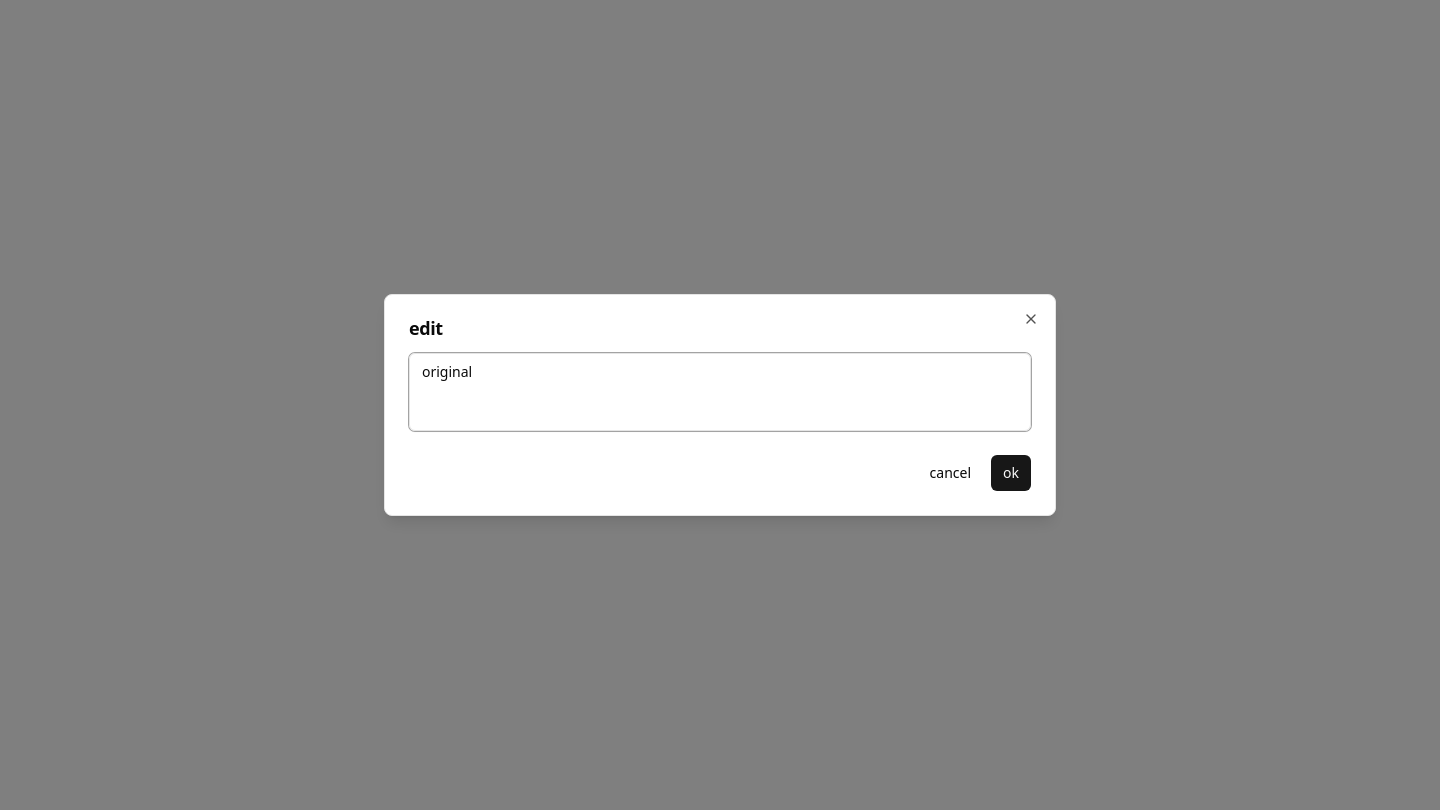
Test case: EditableMessage › cancel reverts to the original value
The image size is (1440, 810).
Replace the text in the text box with "updated": (720, 392) x1=409 y1=353 x2=1031 y2=431
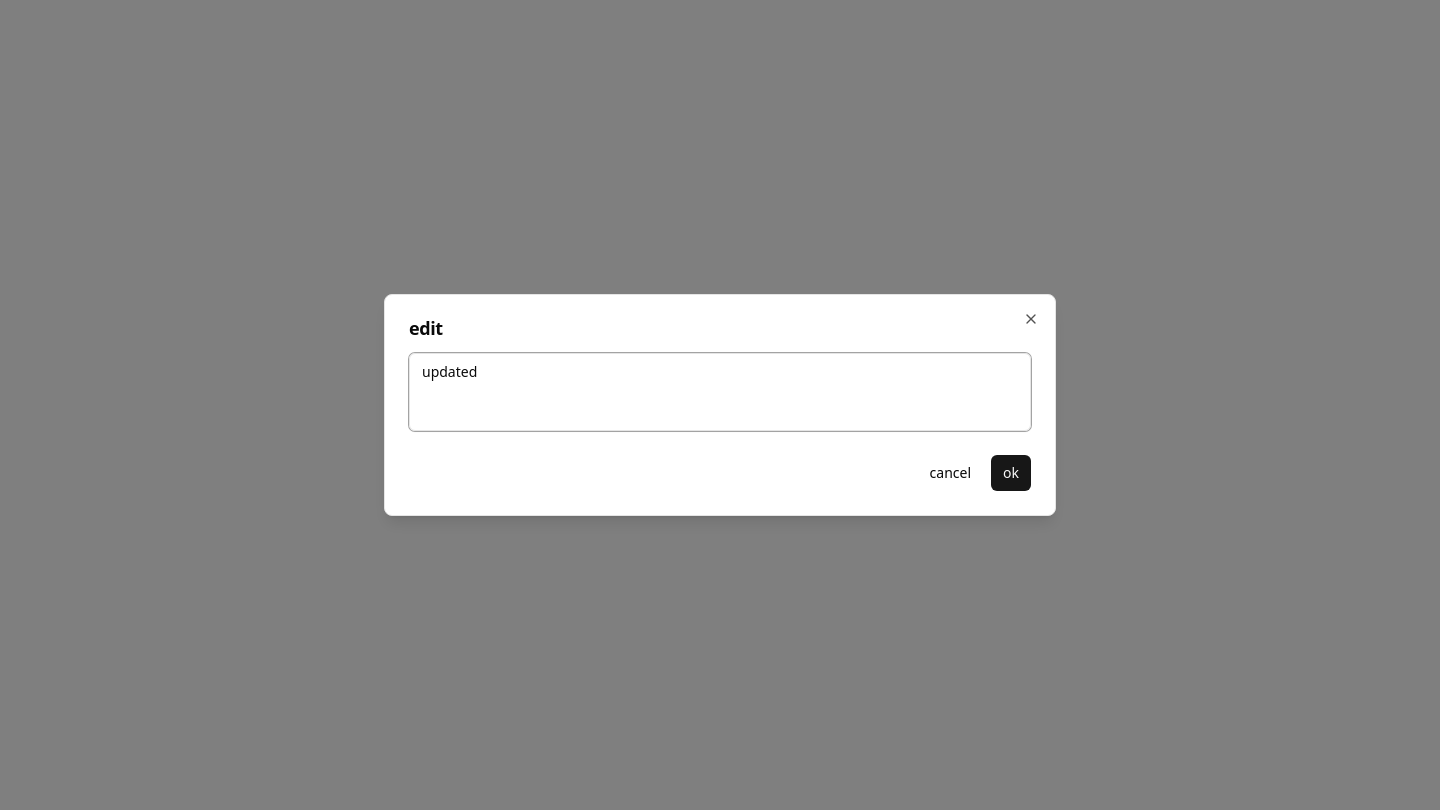
Click the button "cancel": (950, 473) x1=918 y1=455 x2=983 y2=491
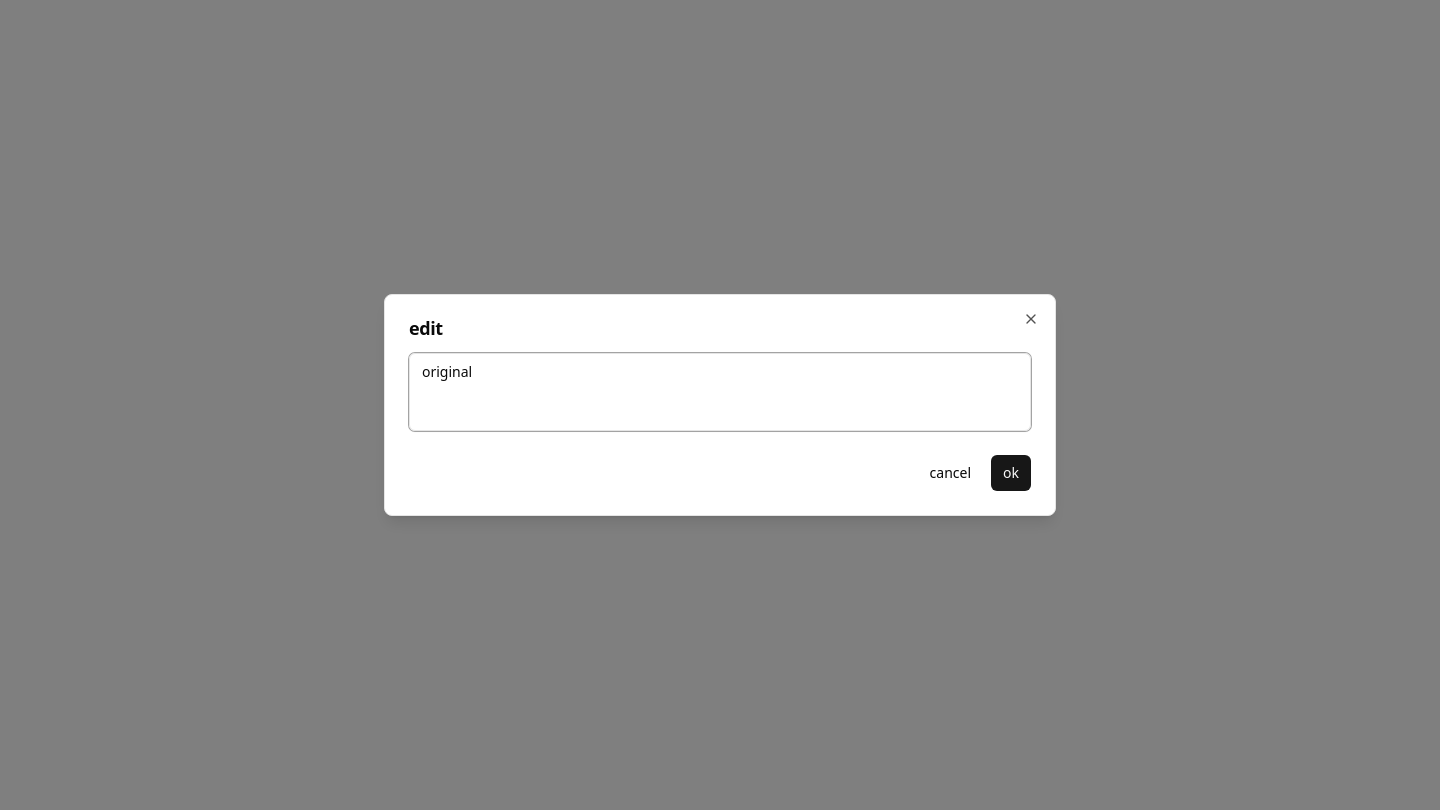
Expected: the text box holds "original", x1=409 y1=353 x2=1031 y2=431
